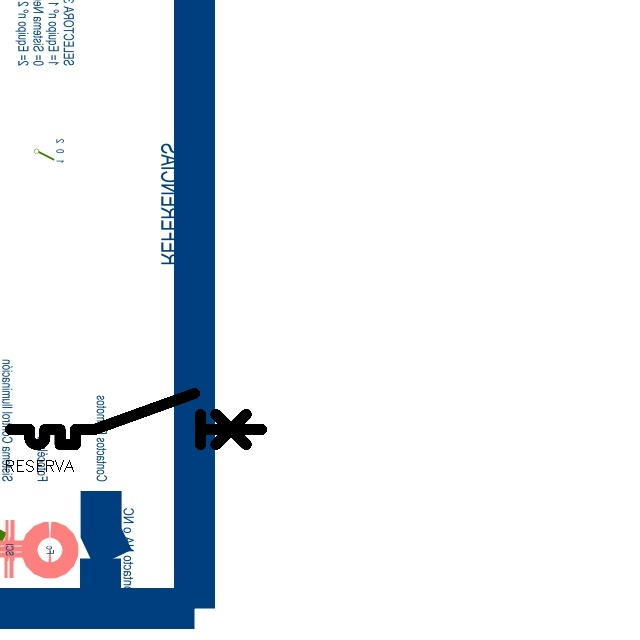interruptor_termomagnetico: (4, 387, 268, 451)
